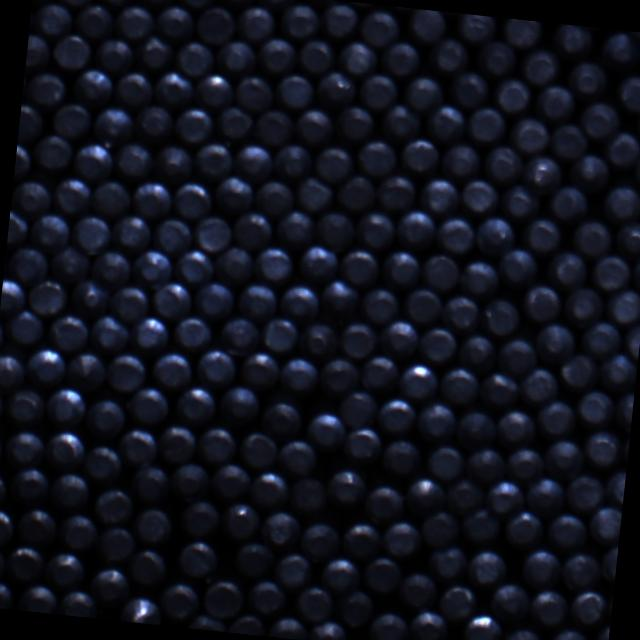tool: (216, 382, 262, 427), (532, 319, 577, 364), (414, 400, 458, 445), (324, 466, 368, 511), (104, 349, 148, 394), (494, 406, 538, 451), (194, 423, 238, 468), (352, 137, 398, 180), (148, 348, 194, 391), (124, 383, 170, 426), (202, 576, 246, 620), (540, 438, 584, 482), (23, 344, 67, 388), (158, 580, 202, 624), (482, 142, 526, 186), (402, 474, 446, 518), (44, 384, 88, 428), (520, 151, 564, 195), (566, 58, 610, 102), (560, 285, 604, 329), (69, 137, 113, 181), (378, 248, 422, 292), (89, 102, 133, 146), (62, 348, 106, 392), (520, 545, 564, 589), (127, 312, 171, 356), (392, 207, 437, 250), (474, 213, 518, 256), (544, 248, 588, 291), (376, 318, 420, 361), (229, 141, 273, 184), (495, 246, 538, 290), (28, 211, 72, 254), (277, 354, 320, 398), (524, 473, 567, 517), (306, 408, 349, 452), (108, 211, 152, 254), (456, 257, 499, 301), (335, 246, 379, 289), (416, 174, 460, 217), (214, 315, 259, 357), (276, 282, 321, 324), (578, 319, 621, 362), (501, 509, 544, 552), (190, 140, 233, 183), (84, 395, 127, 438), (273, 207, 316, 250), (195, 345, 238, 388), (175, 384, 218, 427), (318, 356, 361, 399), (210, 245, 253, 288), (110, 139, 153, 182), (423, 101, 466, 144), (296, 243, 339, 286), (312, 208, 355, 251), (237, 347, 280, 390), (319, 276, 362, 319), (68, 214, 112, 256), (518, 46, 562, 88), (46, 310, 90, 352), (596, 350, 638, 394), (44, 428, 86, 472), (130, 177, 174, 219), (578, 98, 622, 140), (313, 69, 357, 111), (567, 150, 611, 192), (520, 215, 564, 257), (396, 360, 440, 402), (498, 182, 542, 224), (251, 176, 295, 218), (545, 512, 589, 554), (332, 171, 376, 213), (338, 518, 382, 560), (173, 247, 217, 289), (570, 218, 614, 260), (86, 312, 130, 354), (400, 73, 444, 115), (374, 396, 418, 438), (234, 280, 278, 322), (86, 248, 130, 290), (260, 398, 304, 440), (220, 499, 262, 542), (154, 422, 197, 464), (231, 210, 274, 252), (115, 424, 158, 466), (71, 0, 114, 42), (456, 408, 498, 451), (212, 172, 254, 215), (151, 279, 194, 321), (250, 468, 292, 511), (192, 280, 235, 322), (436, 363, 479, 405), (419, 252, 462, 294), (90, 176, 133, 218), (170, 178, 213, 220), (318, 553, 361, 595), (574, 387, 616, 430), (456, 332, 498, 375), (6, 242, 49, 284), (489, 580, 532, 622), (292, 104, 334, 147), (130, 248, 173, 290), (72, 66, 115, 108), (45, 549, 88, 591), (399, 136, 442, 178), (148, 214, 192, 255), (334, 105, 378, 146), (48, 242, 92, 283), (357, 284, 401, 325), (377, 101, 421, 142), (476, 368, 520, 409), (583, 428, 624, 472), (496, 335, 540, 376), (360, 8, 402, 50), (26, 276, 68, 318), (272, 72, 314, 114), (170, 462, 212, 504), (466, 547, 508, 589), (299, 520, 341, 562), (402, 284, 444, 326), (8, 466, 50, 508), (260, 508, 302, 550), (436, 213, 478, 255), (536, 82, 578, 124), (211, 460, 253, 502), (466, 106, 508, 148), (590, 253, 632, 295), (444, 474, 486, 516), (516, 364, 558, 406), (535, 398, 577, 440), (560, 550, 602, 592), (359, 351, 401, 393), (32, 132, 74, 174), (475, 37, 517, 79), (520, 282, 562, 324), (354, 208, 396, 250), (112, 69, 154, 111), (52, 174, 94, 216), (132, 104, 174, 146), (82, 442, 124, 484), (363, 481, 405, 523), (272, 140, 314, 182), (478, 296, 520, 338), (177, 536, 219, 578), (238, 429, 280, 471), (360, 554, 402, 596), (152, 68, 194, 110), (561, 474, 603, 516), (4, 428, 46, 470), (558, 351, 600, 393), (438, 582, 480, 624), (172, 105, 215, 146), (231, 73, 274, 114), (355, 70, 398, 111), (508, 114, 551, 155), (439, 141, 482, 182), (150, 143, 193, 184), (312, 143, 355, 184), (460, 505, 503, 546), (9, 176, 52, 217), (48, 98, 92, 138), (372, 174, 416, 214), (600, 28, 640, 72), (66, 279, 110, 319), (601, 181, 640, 226), (193, 5, 235, 46), (234, 4, 276, 45), (274, 550, 315, 592), (547, 184, 589, 225), (24, 68, 66, 109), (48, 471, 90, 512), (336, 388, 378, 429), (4, 387, 46, 428), (439, 292, 480, 334), (276, 437, 318, 478), (569, 589, 611, 630), (380, 517, 422, 558), (253, 243, 295, 284), (194, 69, 237, 109), (458, 176, 501, 216), (484, 477, 527, 517), (249, 108, 292, 148), (214, 38, 257, 78), (449, 68, 492, 108), (381, 438, 424, 478), (108, 286, 151, 326), (464, 446, 507, 486), (299, 320, 342, 360), (178, 496, 221, 536), (153, 1, 194, 42), (294, 584, 336, 624), (418, 324, 460, 364), (277, 0, 319, 40), (378, 38, 420, 78), (246, 577, 288, 617), (190, 214, 232, 254), (548, 121, 590, 161), (336, 320, 378, 360), (292, 176, 334, 216), (337, 38, 379, 78), (428, 36, 470, 76), (506, 444, 548, 484), (426, 543, 468, 583), (94, 486, 136, 526), (90, 563, 132, 603), (134, 34, 176, 74), (172, 38, 215, 77), (550, 23, 594, 61), (51, 31, 92, 71), (235, 540, 276, 580), (494, 76, 535, 116), (5, 544, 46, 584), (256, 34, 296, 75), (295, 37, 336, 77), (59, 510, 100, 550), (343, 424, 384, 464), (131, 462, 172, 502), (398, 571, 439, 611), (113, 3, 155, 42), (132, 505, 174, 544), (91, 36, 133, 75), (170, 314, 212, 353), (336, 587, 376, 627), (420, 509, 460, 549), (530, 588, 570, 628), (288, 476, 328, 516), (426, 443, 466, 483), (4, 306, 44, 346), (320, 0, 361, 39), (18, 508, 60, 546), (260, 315, 300, 354), (601, 131, 640, 171), (30, 0, 71, 38), (98, 524, 138, 562), (128, 546, 168, 584), (213, 103, 254, 140), (406, 8, 448, 44), (604, 286, 640, 328), (587, 504, 622, 546), (120, 593, 164, 625), (454, 13, 496, 46), (501, 18, 544, 50), (459, 610, 504, 640), (19, 582, 59, 614), (369, 609, 410, 640), (405, 610, 447, 640), (59, 588, 99, 618), (17, 101, 45, 142), (24, 32, 52, 72), (266, 614, 308, 640), (0, 275, 26, 316), (0, 350, 26, 391), (613, 219, 640, 258), (615, 72, 640, 113), (603, 466, 626, 510), (226, 611, 266, 636), (612, 388, 634, 431), (7, 208, 30, 248), (307, 618, 347, 640), (620, 319, 640, 359), (186, 613, 228, 632), (13, 140, 31, 183), (600, 541, 618, 582), (500, 625, 544, 640), (546, 625, 589, 640), (0, 506, 15, 547), (254, 0, 297, 10), (0, 579, 14, 609), (630, 248, 640, 290), (593, 620, 610, 640), (633, 148, 640, 191), (174, 0, 215, 7), (96, 0, 136, 7), (0, 469, 7, 508), (134, 0, 175, 6), (214, 0, 254, 6), (626, 30, 640, 45), (0, 384, 4, 424), (349, 638, 384, 640)
